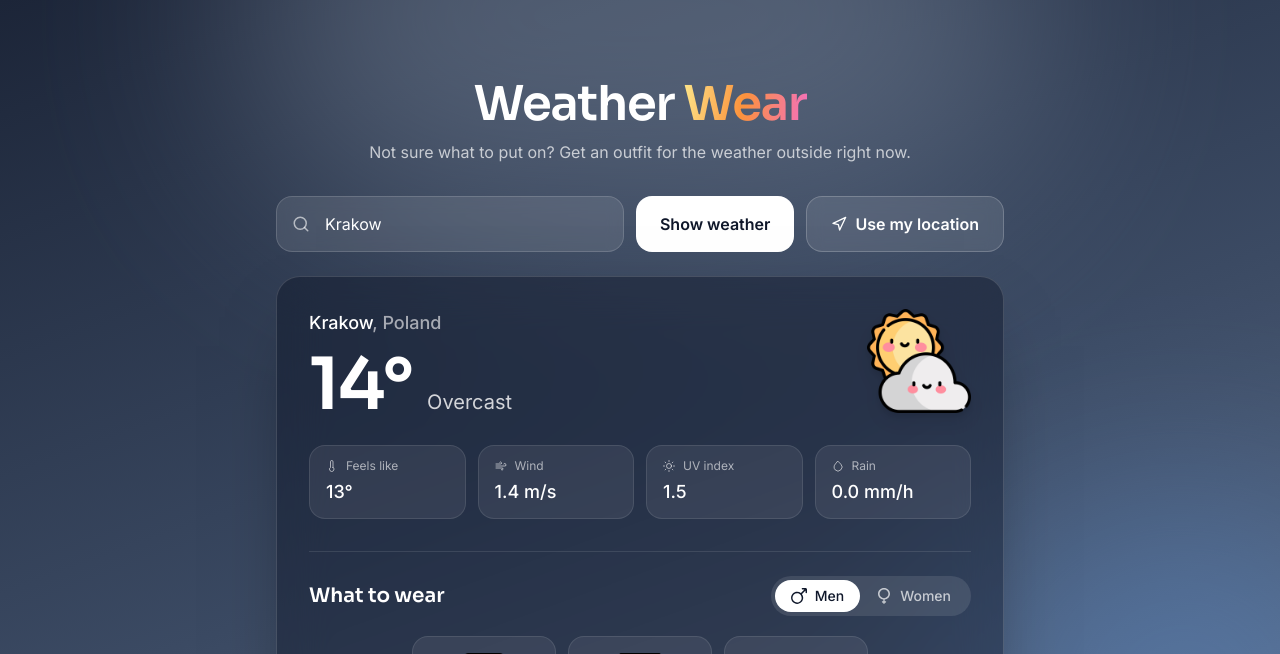
Test: uses the browser location and fills in the city
Check: the heading "Krakow, Poland" is shown, box [309,312,441,333]
Step 1. Click the button "Use my location" → (905, 224), box [806,196,1004,252]
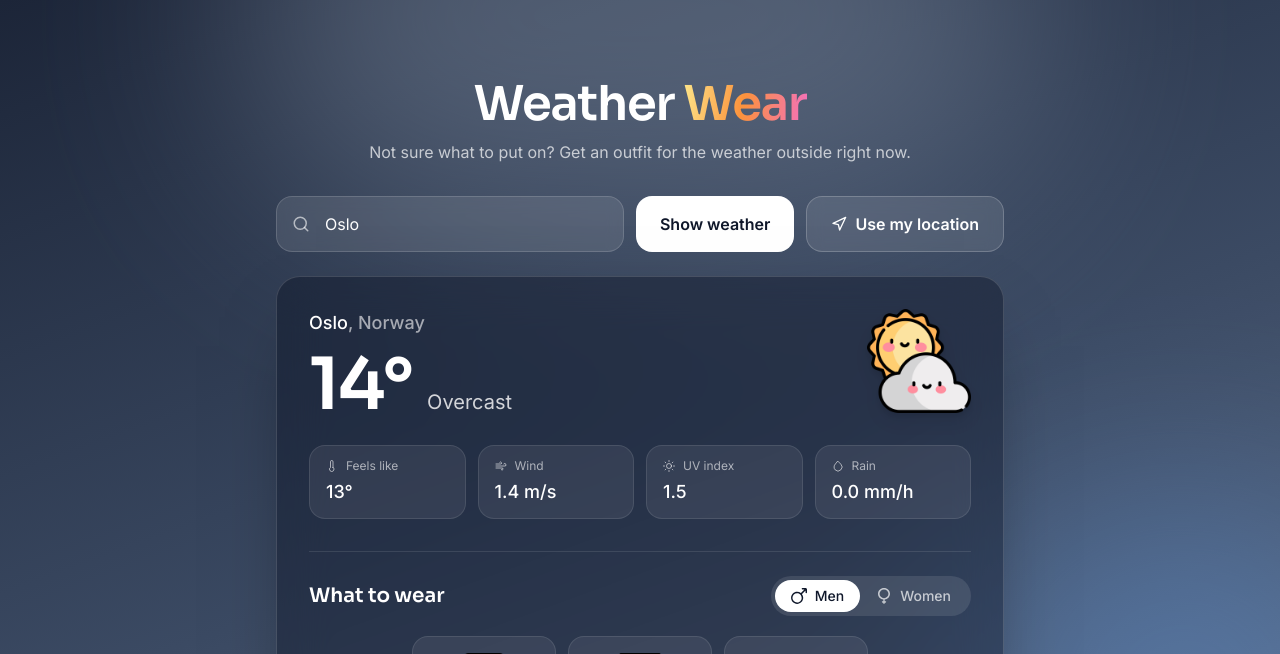
Check: the heading "Oslo, Norway" is shown, box [309,312,425,333]
Check: the field named "city" holds "Oslo", box [276,196,624,252]
